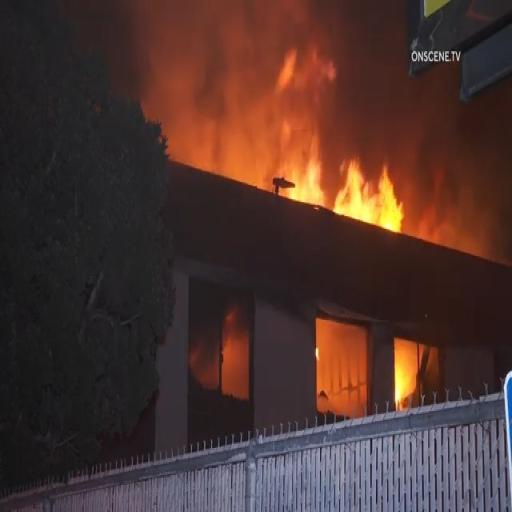fire: (282, 132, 402, 226)
